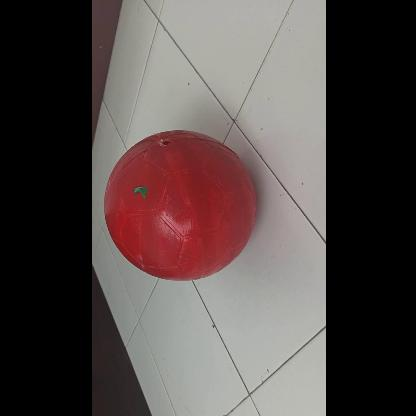red_ball: (101, 132, 254, 284)
